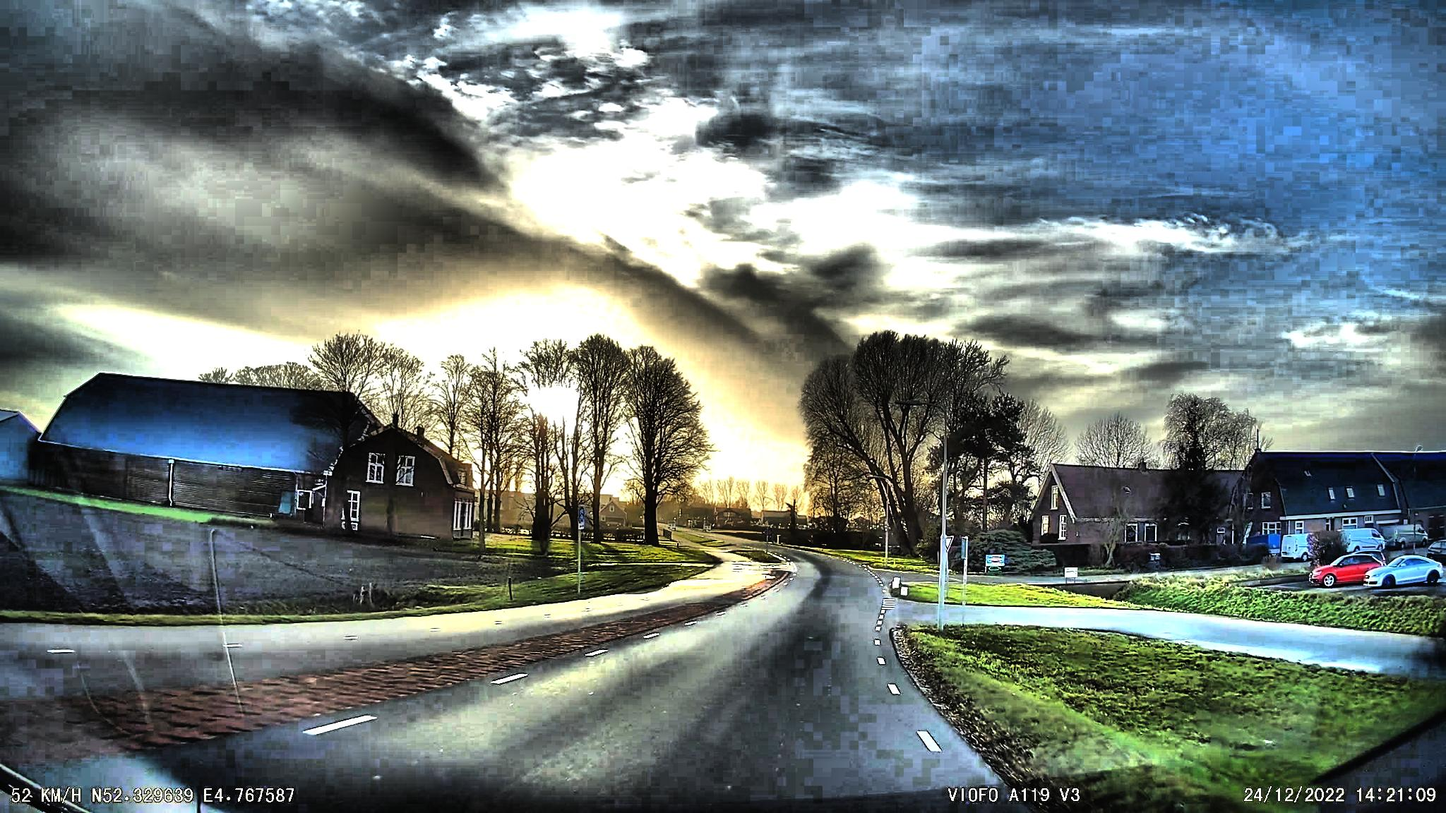Roads: (0, 552, 1446, 813)
